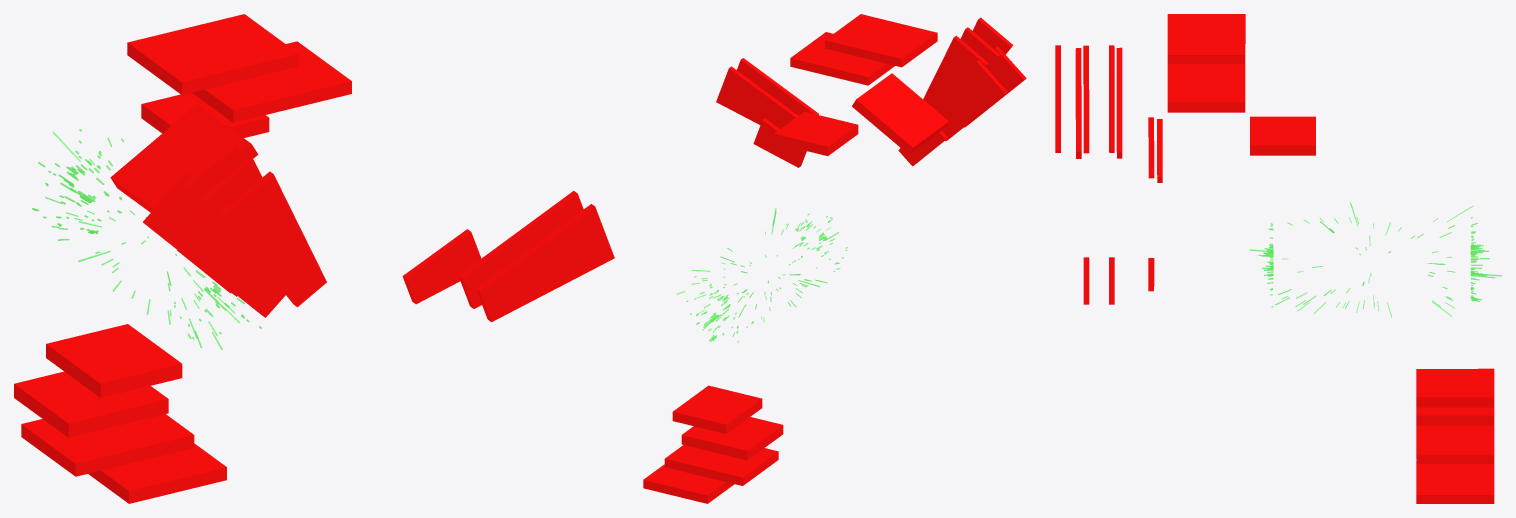
3 views of the same model, side by side, from view 1: azimuth 30°, elevation 25°; view 2: azimuth 150°, elevation 25°; view 3: azimuth 270°, elevation 25° (orthographic). The views are drawn at different scales.
Visible parts, largest first — view 1: MuonChambers_V1, EERecHits_V2, EBRecHits_V2; view 2: MuonChambers_V1, EERecHits_V2, EBRecHits_V2; view 3: MuonChambers_V1, EERecHits_V2, EBRecHits_V2.
Part boxes in pixels (<box>): MuonChambers_V1: <box>14,14,614,503</box>; EERecHits_V2: <box>32,129,261,339</box>; EBRecHits_V2: <box>45,131,240,349</box>; MuonChambers_V1: <box>643,14,1026,503</box>; EERecHits_V2: <box>676,213,847,342</box>; EBRecHits_V2: <box>691,208,839,336</box>; MuonChambers_V1: <box>1055,14,1494,503</box>; EERecHits_V2: <box>1249,217,1501,307</box>; EBRecHits_V2: <box>1275,202,1473,317</box>.
Size of what is drawn, in the model's own units: 11.86 by 14.72 by 14.4.
